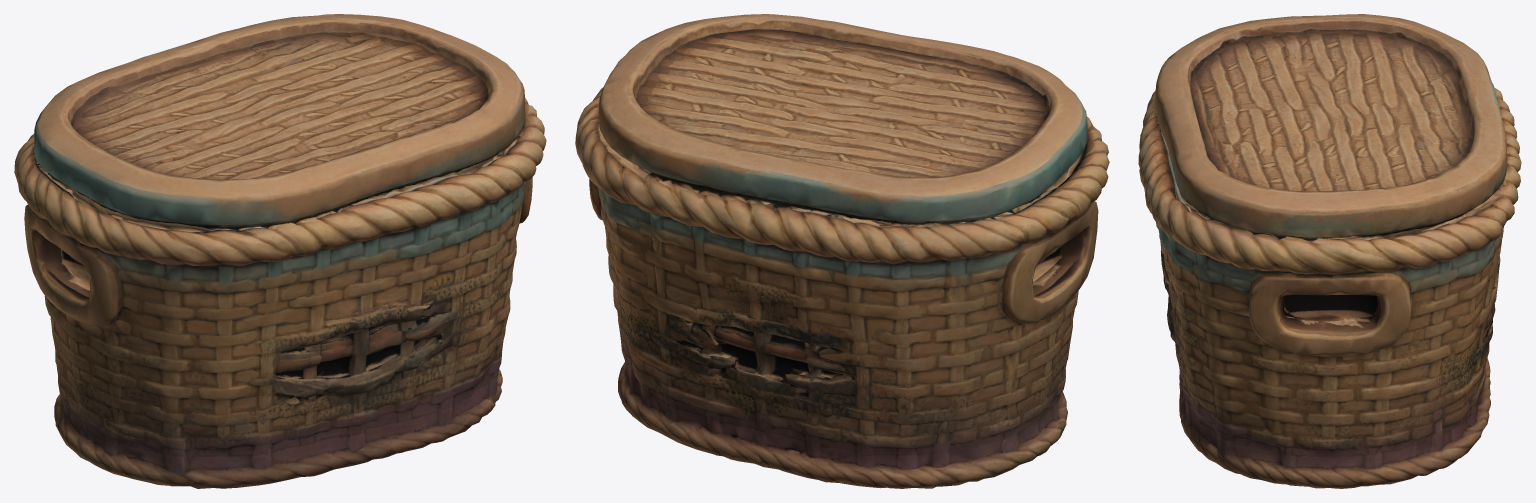
Rendered from Prop_LaundryBasket.fbx.
3 views of the same model, side by side, from view 1: azimuth 30°, elevation 25°; view 2: azimuth 150°, elevation 25°; view 3: azimuth 270°, elevation 25° (orthographic). The views are drawn at different scales.
Visible parts, largest first — view 1: texture_mapping; view 2: texture_mapping; view 3: texture_mapping.
Boxes of the visible parts, <box> form: texture_mapping: <box>14,14,546,488</box>; texture_mapping: <box>575,14,1109,488</box>; texture_mapping: <box>1138,14,1521,488</box>.
Bounding box in the file's own units: 1 × 0.7503 × 0.6418.
Materials: 1 (1 with a texture image).
